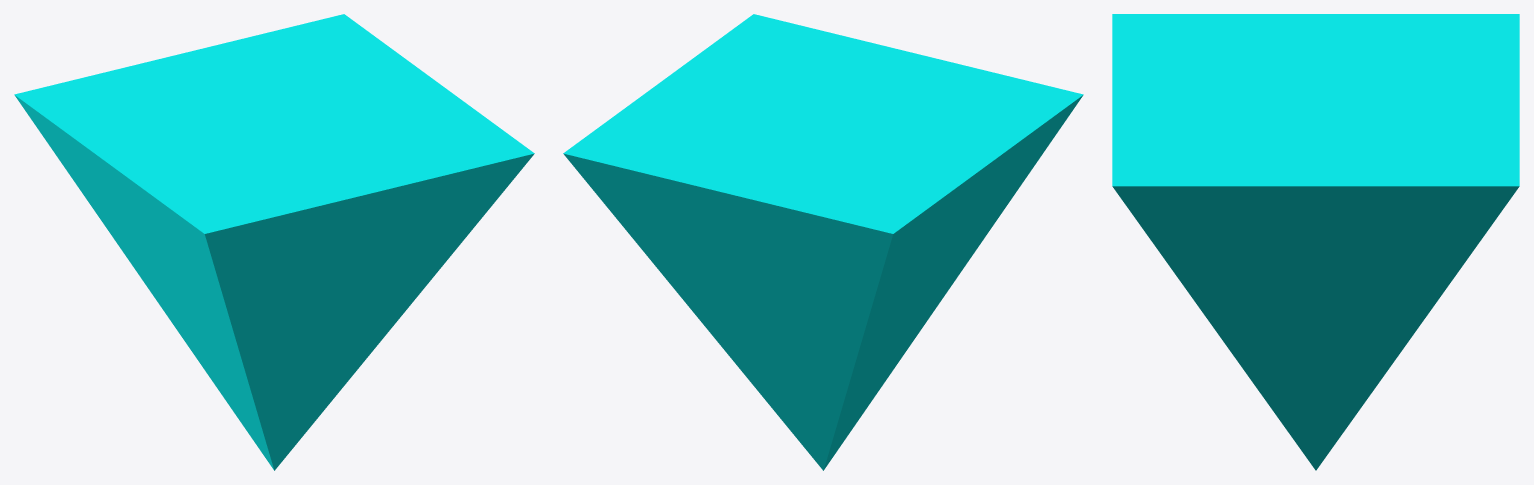
Rendered from HeadMark.FBX.
3 renders of one model, left to right at view 1: azimuth 30°, elevation 25°; view 2: azimuth 150°, elevation 25°; view 3: azimuth 270°, elevation 25°, orthographic. The views are drawn at different scales.
Parts seen in each view (by area): view 1: HeadMark; view 2: HeadMark; view 3: HeadMark.
Boxes of the visible parts, bbox=[...] form: HeadMark: bbox=[14, 14, 534, 470]; HeadMark: bbox=[563, 14, 1083, 470]; HeadMark: bbox=[1112, 14, 1519, 470].
Size of the model in its own units: 25.92 by 25.92 by 26.03.
